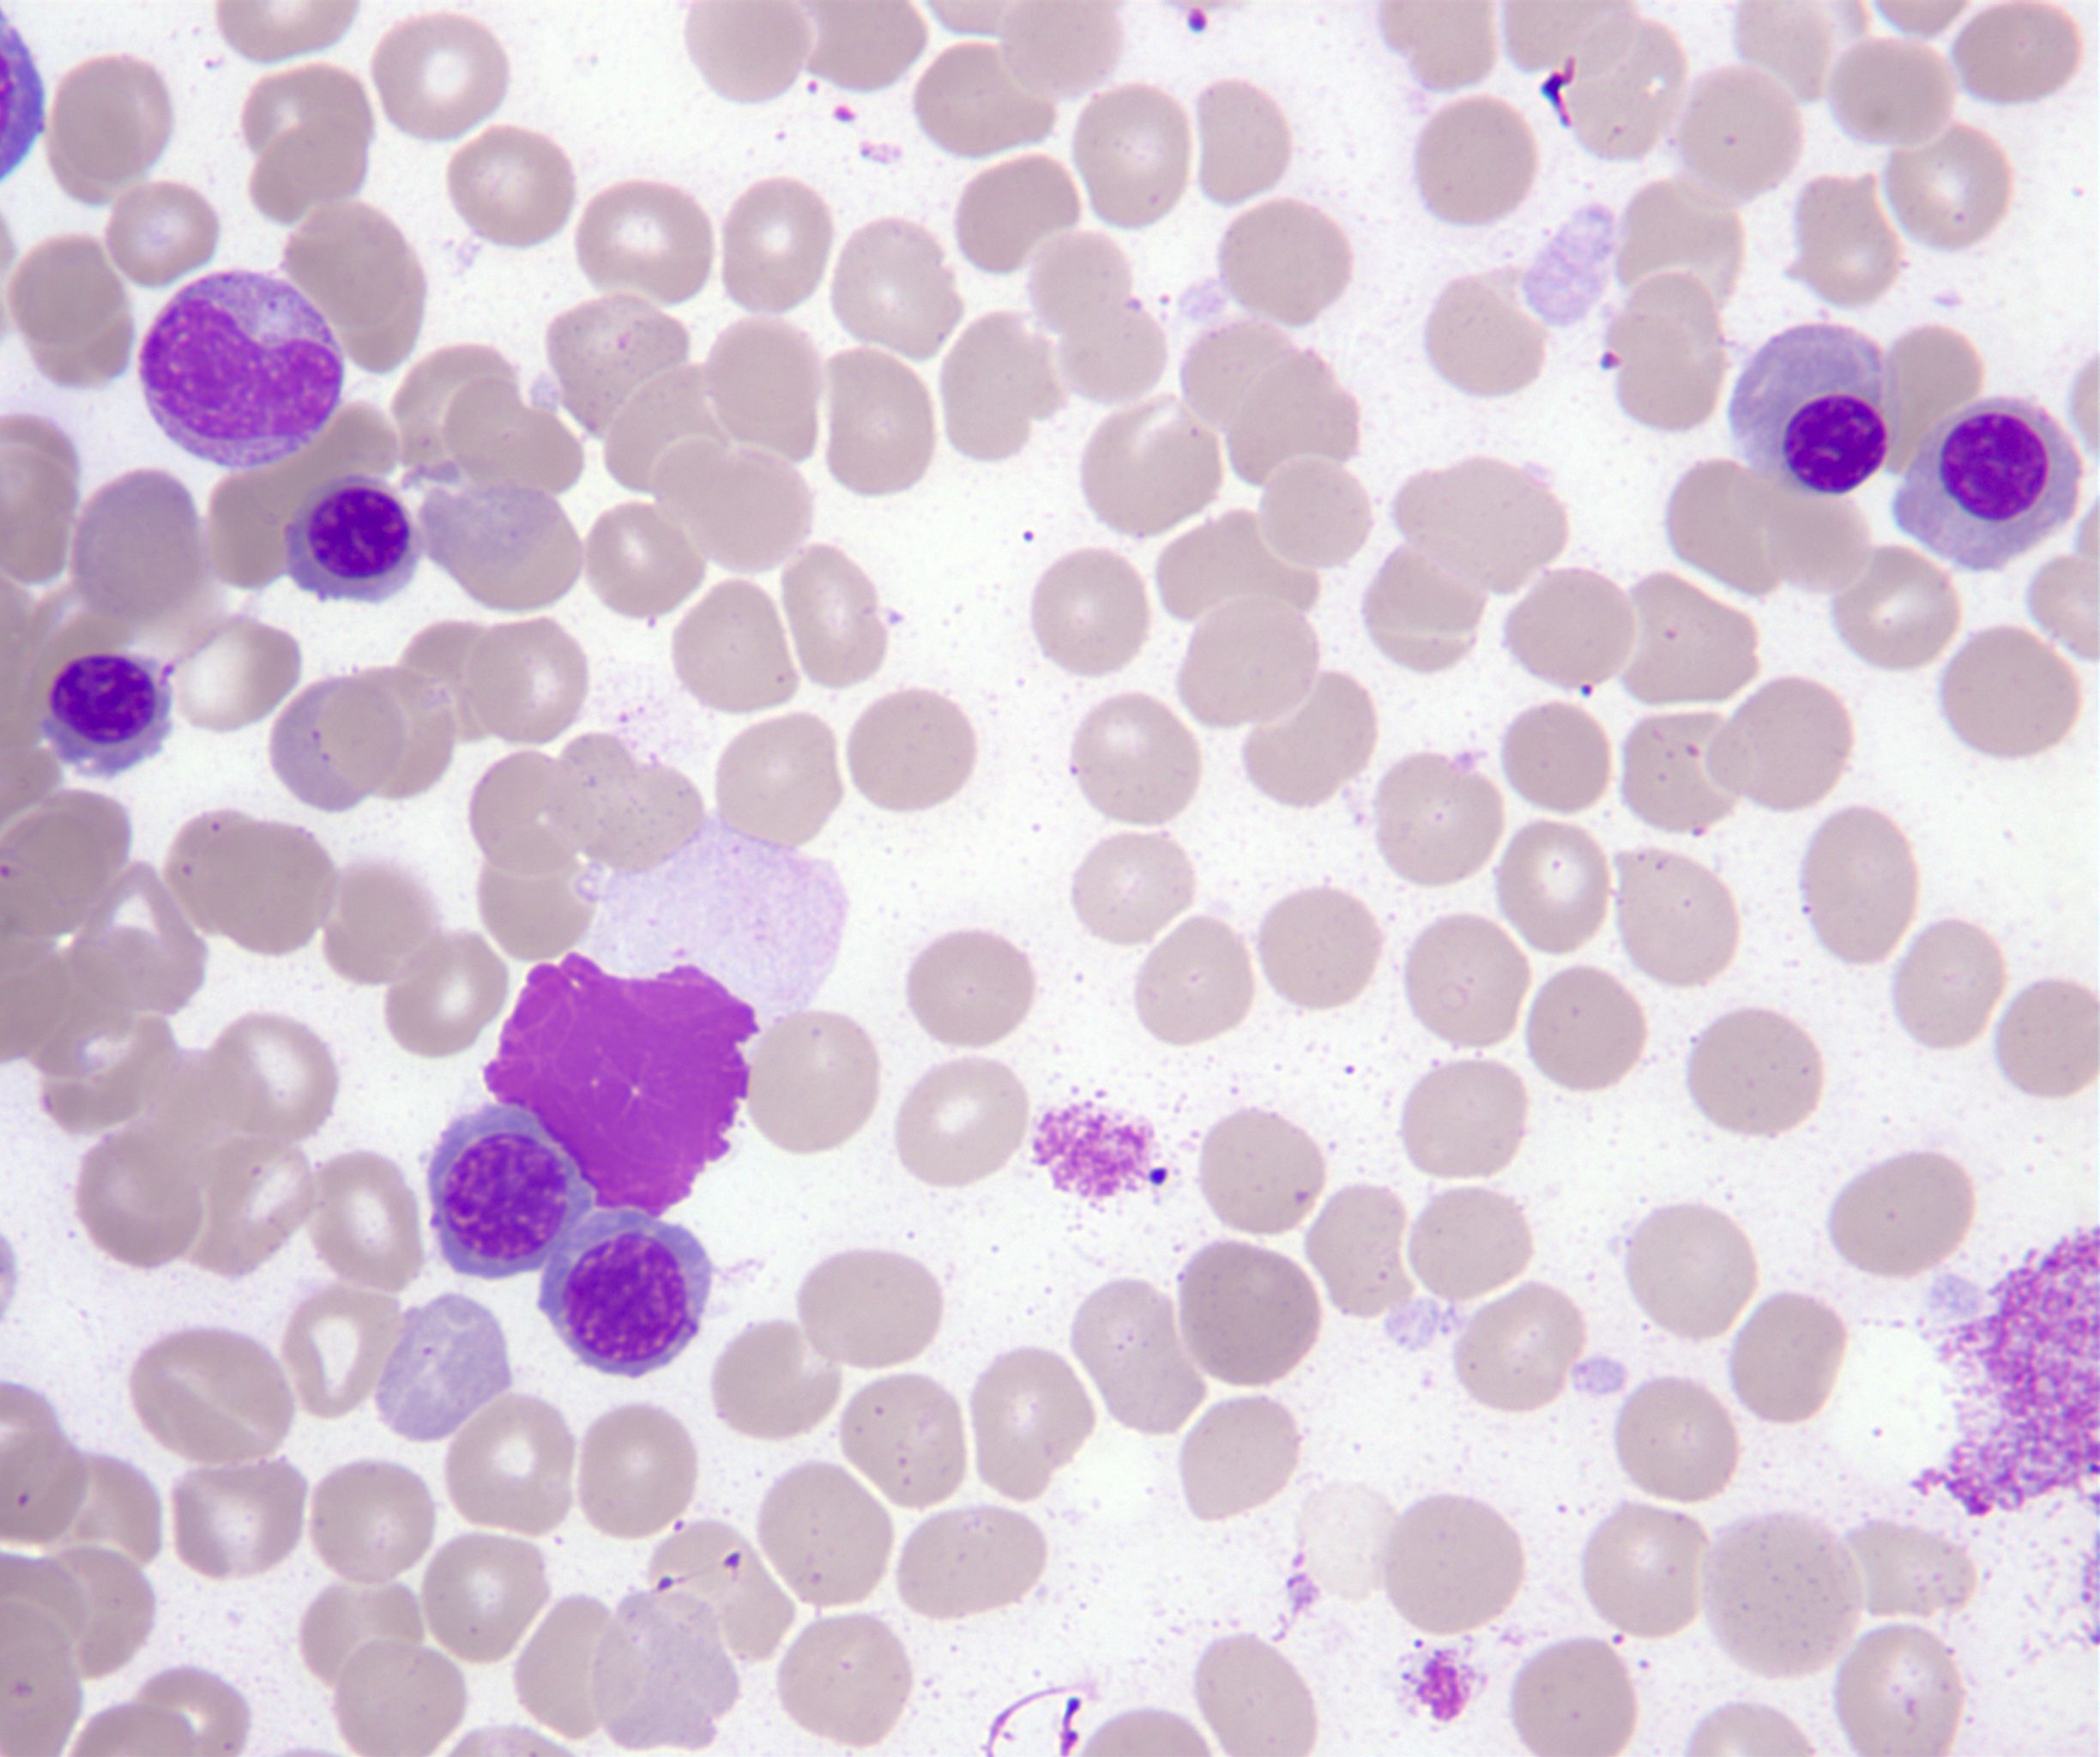23: (427, 1104, 598, 1279), (541, 1207, 710, 1377), (286, 476, 424, 602), (40, 658, 171, 778)
24: (1894, 398, 2081, 572), (1728, 325, 1891, 496)
4: (140, 270, 345, 466)
x: (485, 954, 755, 1220)
